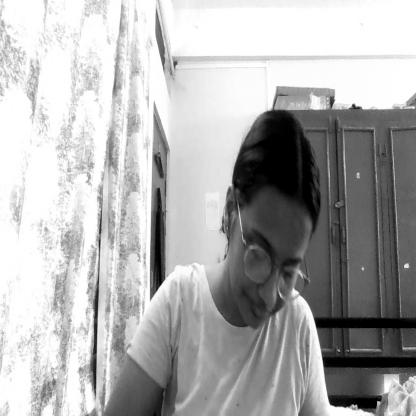Distracted: (229, 113, 321, 327)
